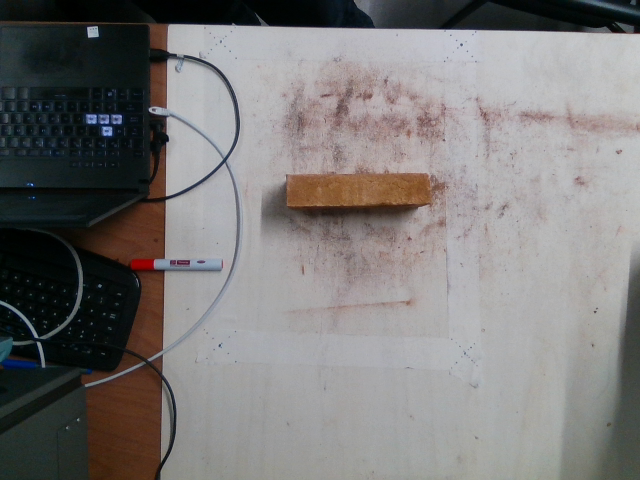brick-side: (286, 172, 430, 206)
